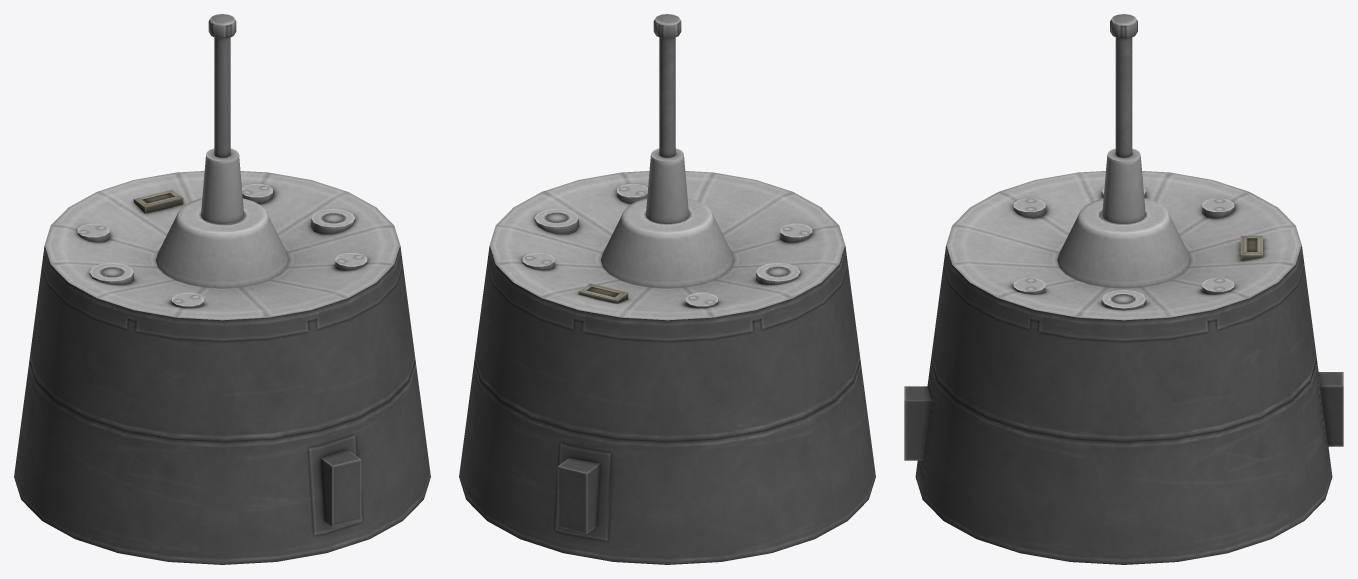
File: ao bake.obj
3 views of the same model, side by side, from view 1: azimuth 30°, elevation 25°; view 2: azimuth 150°, elevation 25°; view 3: azimuth 270°, elevation 25° (orthographic).
Visible parts, largest first — view 1: male, probe; view 2: male, probe; view 3: male, probe.
Part boxes in pixels (x1=…): male: x1=14, y1=171, x2=430, y2=564; probe: x1=201, y1=14, x2=243, y2=223; male: x1=459, y1=171, x2=875, y2=564; probe: x1=646, y1=14, x2=688, y2=223; male: x1=904, y1=171, x2=1343, y2=564; probe: x1=1102, y1=14, x2=1145, y2=223.
Bounding box in the file's own units: 0.9375 × 1.14 × 0.9875.
Materials: 1 (1 with a texture image).
